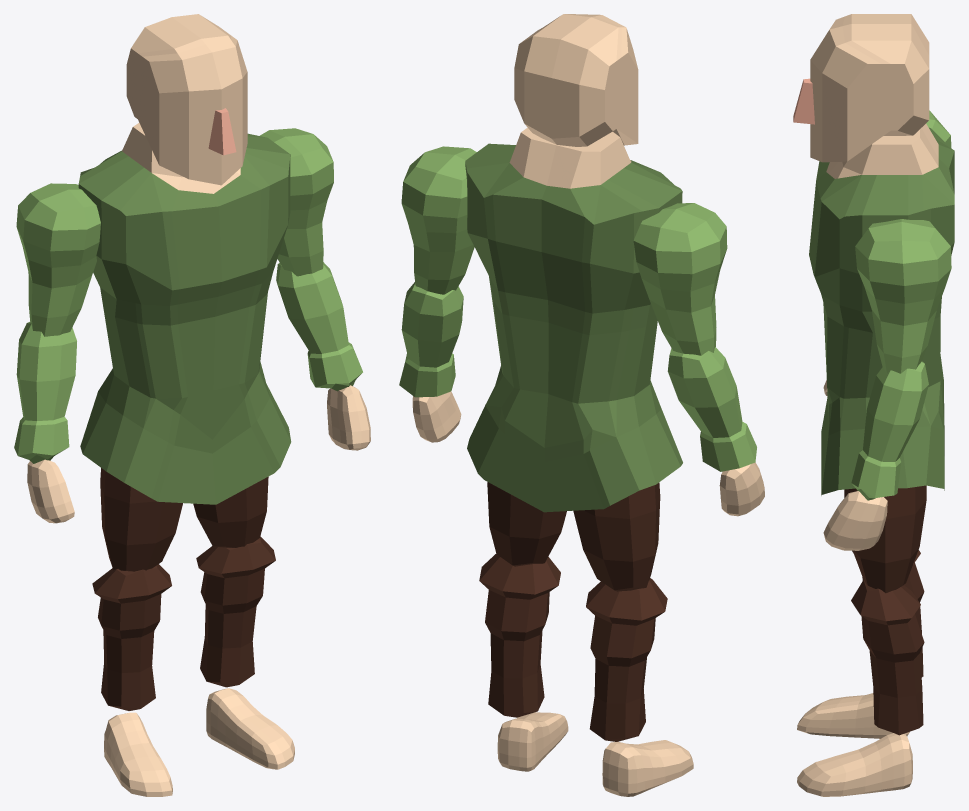
Rendered from Villager01.fbx.
The picture shows the model from 3 angles, left to right: view 1: azimuth 30°, elevation 25°; view 2: azimuth 150°, elevation 25°; view 3: azimuth 270°, elevation 25°; orthographic projection. The views are drawn at different scales.
Visible parts, largest first — view 1: Cube.007, Cube.002, Cube.003, Cube.001, Cube.005, Cube.004, Cube, Cube.006; view 2: Cube.007, Cube.002, Cube.003, Cube.001, Cube.005, Cube, Cube.004; view 3: Cube.007, Cube.002, Cube.001, Cube.003, Cube.005, Cube, Cube.004, Cube.006.
Part boxes in pixels (x1=…): Cube.007: x1=78, y1=133, x2=291, y2=504; Cube.002: x1=14, y1=128, x2=362, y2=463; Cube.003: x1=92, y1=468, x2=275, y2=710; Cube.001: x1=126, y1=14, x2=247, y2=185; Cube.005: x1=104, y1=688, x2=294, y2=796; Cube.004: x1=27, y1=385, x2=370, y2=523; Cube: x1=122, y1=123, x2=240, y2=193; Cube.006: x1=208, y1=108, x2=236, y2=155; Cube.007: x1=465, y1=143, x2=682, y2=512; Cube.002: x1=399, y1=146, x2=756, y2=471; Cube.003: x1=479, y1=482, x2=667, y2=741; Cube.001: x1=514, y1=14, x2=638, y2=146; Cube.005: x1=497, y1=712, x2=693, y2=796; Cube: x1=509, y1=127, x2=631, y2=188; Cube.004: x1=412, y1=391, x2=764, y2=516; Cube.007: x1=809, y1=127, x2=954, y2=495; Cube.002: x1=851, y1=110, x2=951, y2=500; Cube.001: x1=810, y1=14, x2=929, y2=162; Cube.003: x1=844, y1=485, x2=926, y2=735; Cube.005: x1=797, y1=693, x2=912, y2=796; Cube: x1=826, y1=124, x2=938, y2=178; Cube.004: x1=823, y1=380, x2=887, y2=550; Cube.006: x1=793, y1=78, x2=814, y2=124.
Bounding box in the file's own units: 517 × 1044 × 207.
